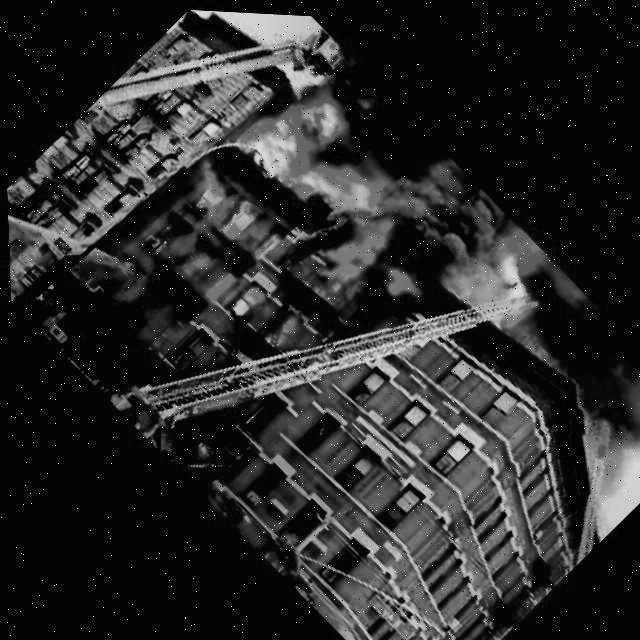Fire: (236, 59, 411, 236), (311, 215, 419, 325), (464, 224, 562, 323), (167, 148, 238, 220), (214, 192, 264, 243), (222, 275, 270, 324)
Smoke: (459, 246, 640, 490), (350, 128, 520, 299), (276, 44, 422, 191)
